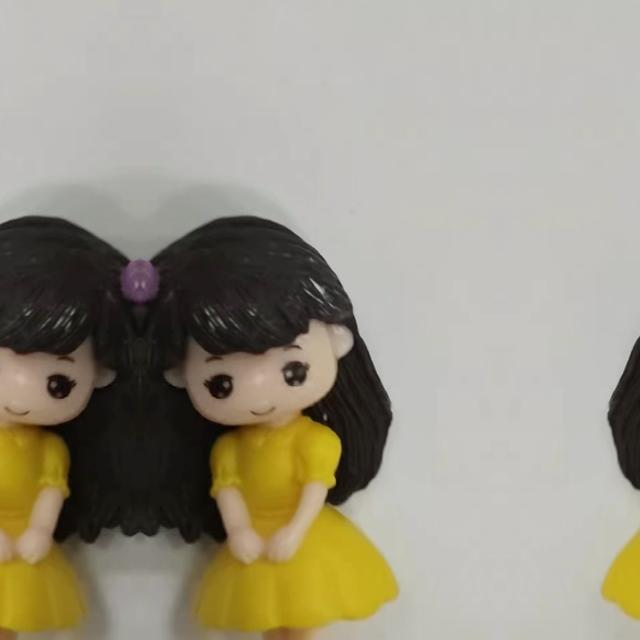woman dress: (207, 416, 401, 640), (0, 416, 73, 639), (599, 416, 640, 639)
woman head: (147, 220, 371, 428), (0, 220, 133, 428), (629, 220, 640, 428)
